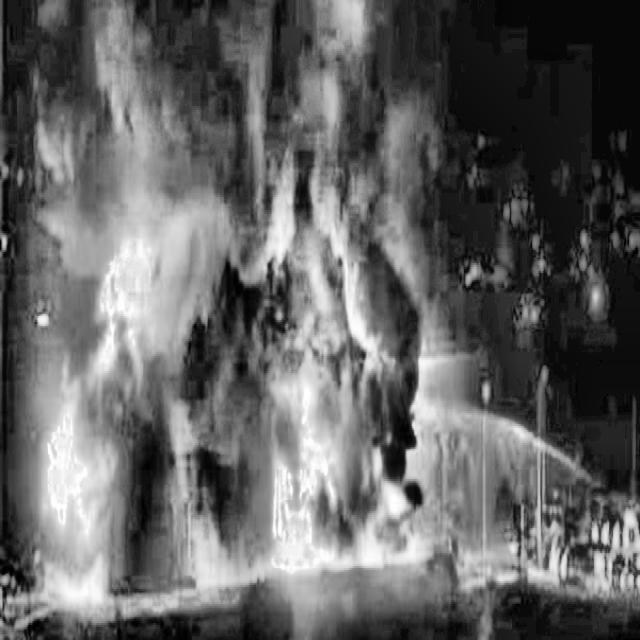fire: (29, 146, 487, 640)
